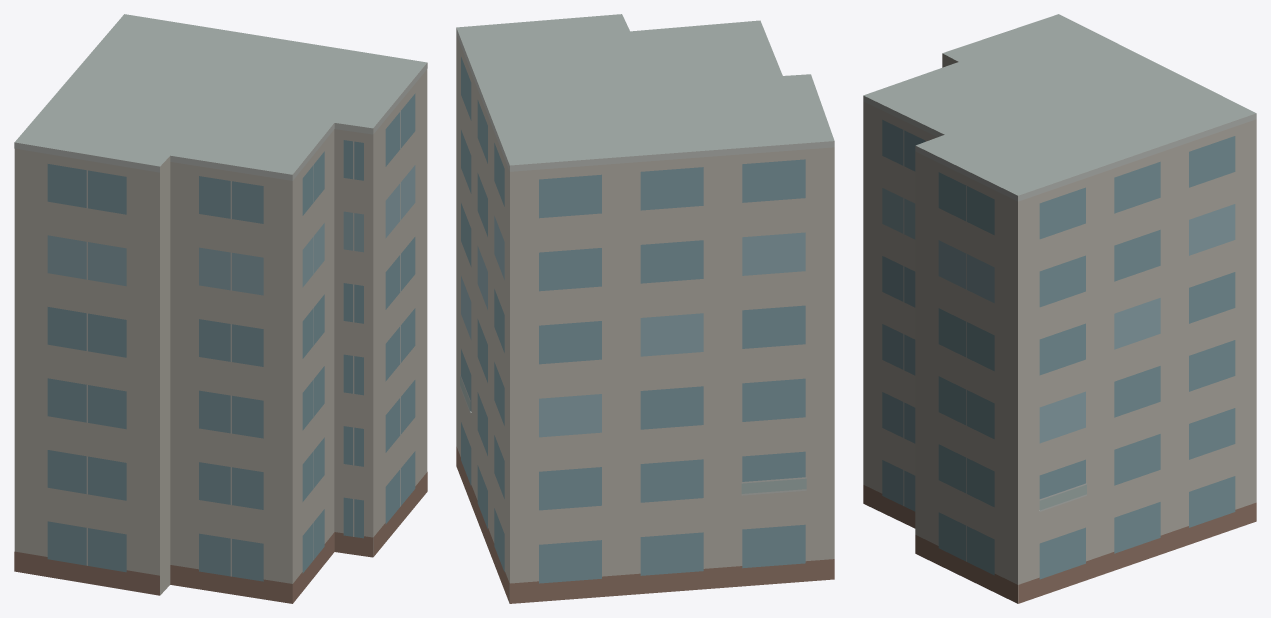
Rendered from survey-upis-32852018.glb.
The picture shows the model from 3 angles, left to right: view 1: azimuth 30°, elevation 25°; view 2: azimuth 150°, elevation 25°; view 3: azimuth 270°, elevation 25°; orthographic projection. The views are drawn at different scales.
Visible parts, largest first — view 1: survey-upis-32852018.tmp; view 2: survey-upis-32852018.tmp; view 3: survey-upis-32852018.tmp.
Boxes of the visible parts, bbox=[...] form: survey-upis-32852018.tmp: bbox=[14, 14, 427, 603]; survey-upis-32852018.tmp: bbox=[456, 14, 834, 603]; survey-upis-32852018.tmp: bbox=[863, 14, 1256, 603].
Size of the model in its own units: 16.25 by 17 by 14.86.
